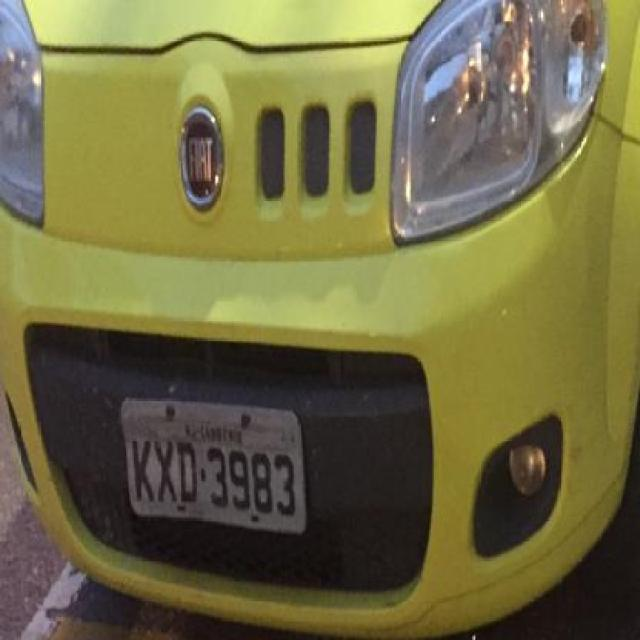old_plate: (110, 392, 320, 540)
